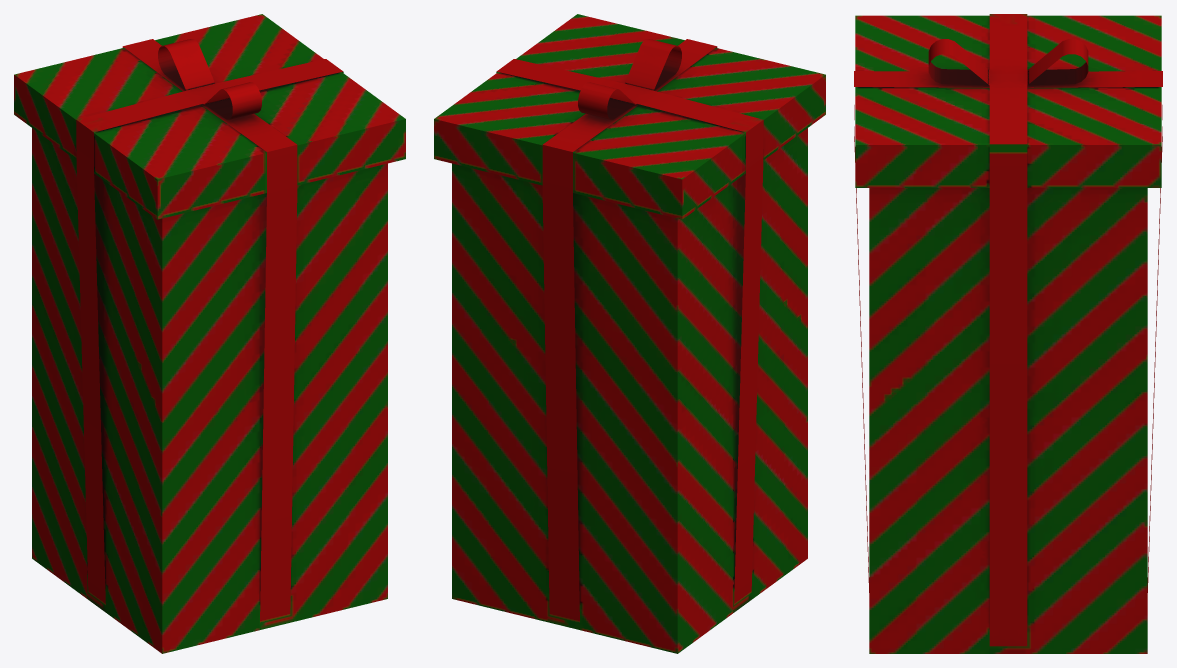
Rendered from present_1x1x2.dae.
3 renders of one model, left to right at view 1: azimuth 30°, elevation 25°; view 2: azimuth 150°, elevation 25°; view 3: azimuth 270°, elevation 25°, orthographic. The views are drawn at different scales.
Parts seen in each view (by area): view 1: present_1x1x2_a20; view 2: present_1x1x2_a20; view 3: present_1x1x2_a20.
Boxes of the visible parts, bbox=[...] form: present_1x1x2_a20: bbox=[14, 14, 405, 653]; present_1x1x2_a20: bbox=[434, 14, 825, 653]; present_1x1x2_a20: bbox=[854, 14, 1162, 653].
Bounding box in the file's own units: 0.553 × 0.5546 × 1.09.
